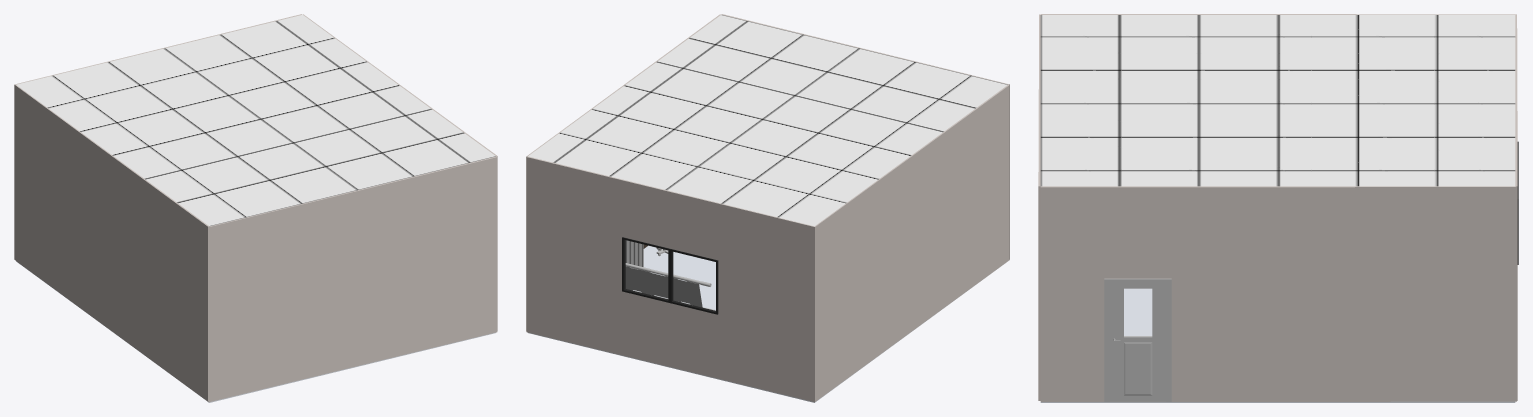
File: uks.fbx
3 renders of one model, left to right at view 1: azimuth 30°, elevation 25°; view 2: azimuth 150°, elevation 25°; view 3: azimuth 270°, elevation 25°, orthographic. The views are drawn at different scales.
Parts seen in each view (by area): view 1: dinding, atap, lantai; view 2: dinding, atap, lantai, tandu.002, jendela, gorden; view 3: dinding, atap, pintu, lantai.
Part boxes in pixels (x1,y1,x2,y2): dinding: (14, 14, 497, 401); atap: (16, 14, 495, 226); lantai: (16, 261, 496, 402); dinding: (526, 14, 1009, 401); atap: (528, 14, 1007, 226); lantai: (527, 245, 995, 402); tandu.002: (625, 263, 715, 310); jendela: (622, 237, 718, 314); gorden: (625, 240, 643, 269); dinding: (1038, 14, 1517, 401); atap: (1040, 15, 1515, 186); pintu: (1104, 278, 1171, 401); lantai: (1040, 288, 1515, 402).
Size of the model in its own units: 612 by 353 by 709.
